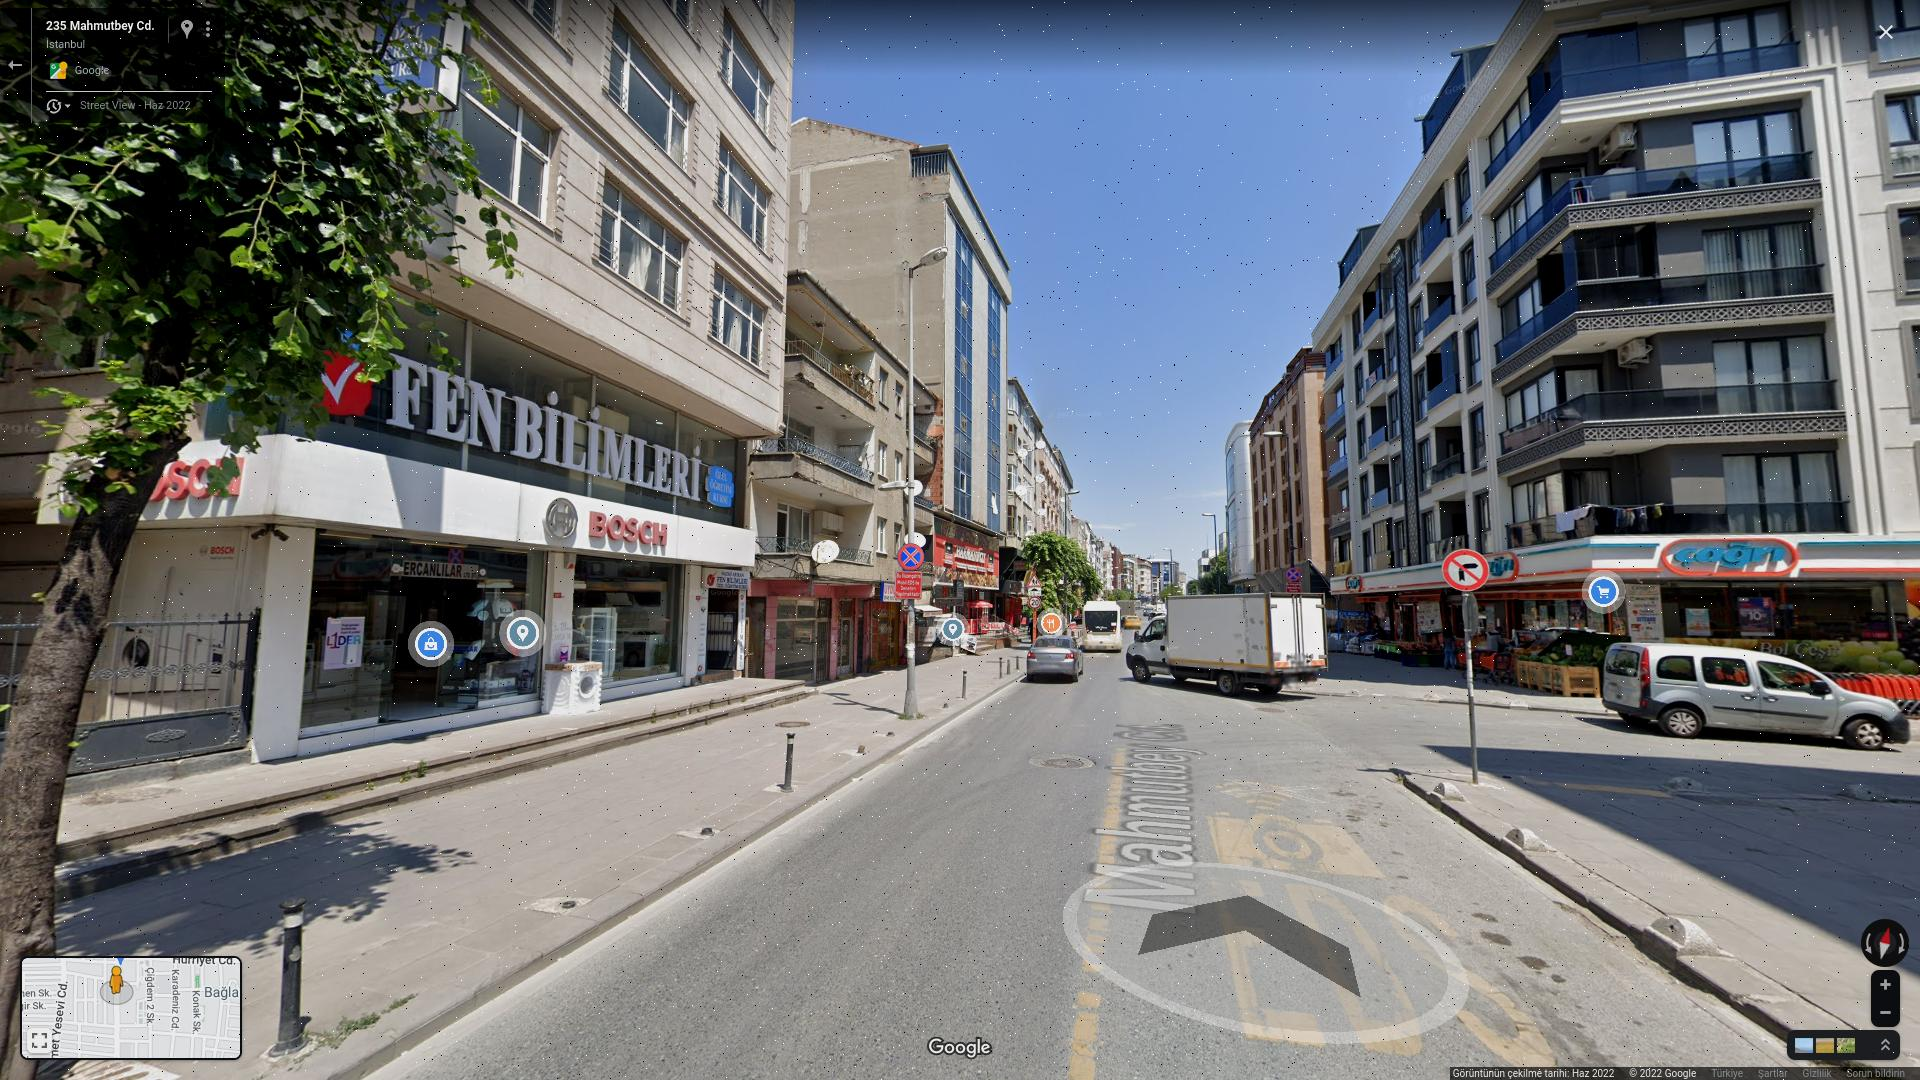rightturnsareforbidden: (1445, 553, 1485, 592)
